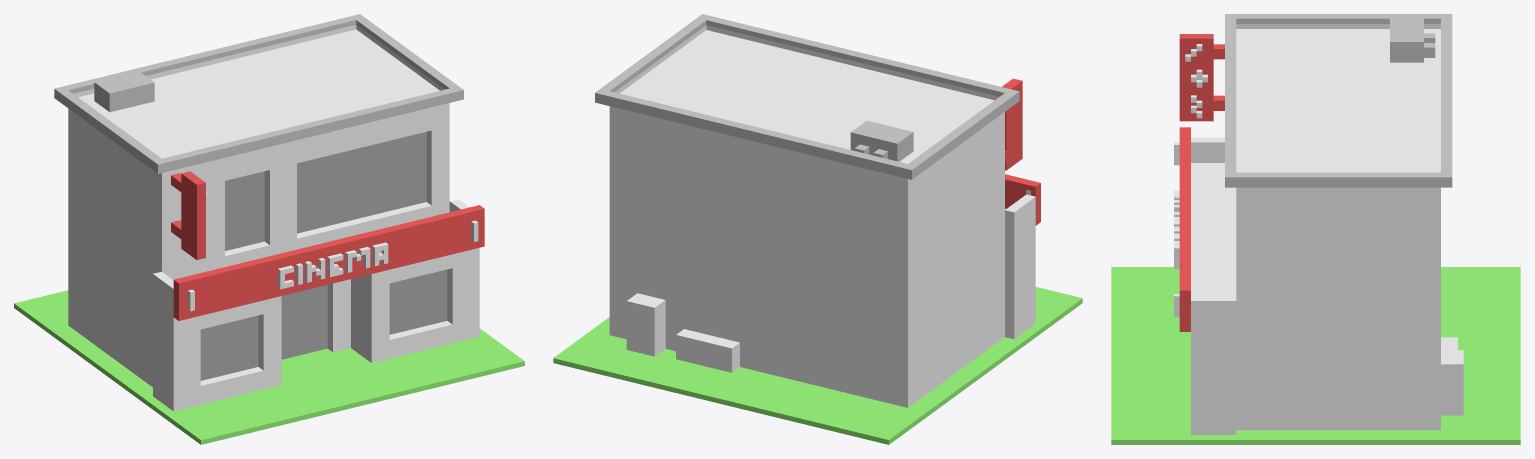
3 renders of one model, left to right at view 1: azimuth 30°, elevation 25°; view 2: azimuth 150°, elevation 25°; view 3: azimuth 270°, elevation 25°, orthographic. The views are drawn at different scales.
Visible parts, largest first — view 1: ObjObject.002; view 2: ObjObject.002; view 3: ObjObject.002.
Boxes of the visible parts, box(x1,y1,x2,y2) form: ObjObject.002: box(14, 14, 524, 444); ObjObject.002: box(553, 14, 1082, 444); ObjObject.002: box(1111, 14, 1520, 444).
Bounding box in the file's own units: 4 × 4 × 2.94.
